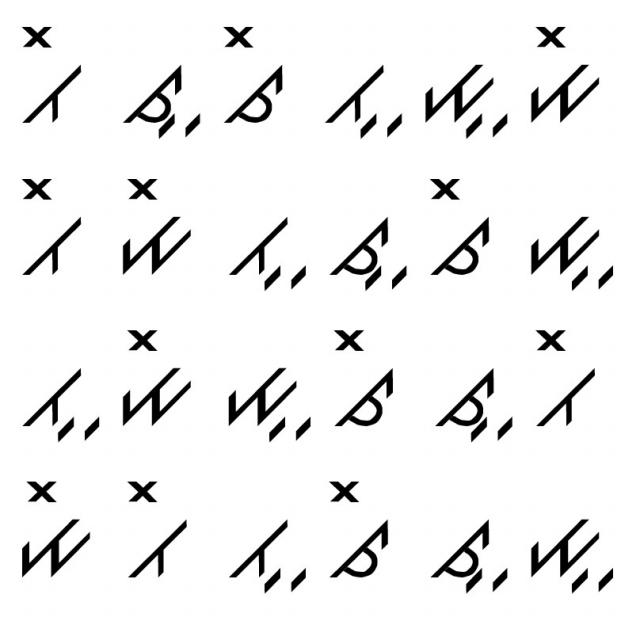bah: (12, 354, 104, 453), (221, 505, 314, 597), (228, 201, 312, 298), (318, 57, 410, 143)
bo: (2, 168, 86, 283), (7, 16, 85, 127), (528, 322, 608, 430), (120, 471, 193, 584)
cah: (423, 502, 512, 597), (326, 213, 416, 303), (432, 357, 520, 449), (118, 51, 202, 143)
co: (318, 470, 397, 584), (328, 317, 404, 433), (429, 168, 502, 283), (217, 20, 288, 128)
mah: (524, 198, 618, 299), (209, 356, 317, 443), (526, 507, 621, 597), (418, 58, 512, 146)
mo: (106, 167, 194, 280), (112, 316, 196, 431), (9, 474, 95, 580), (524, 19, 604, 128)
